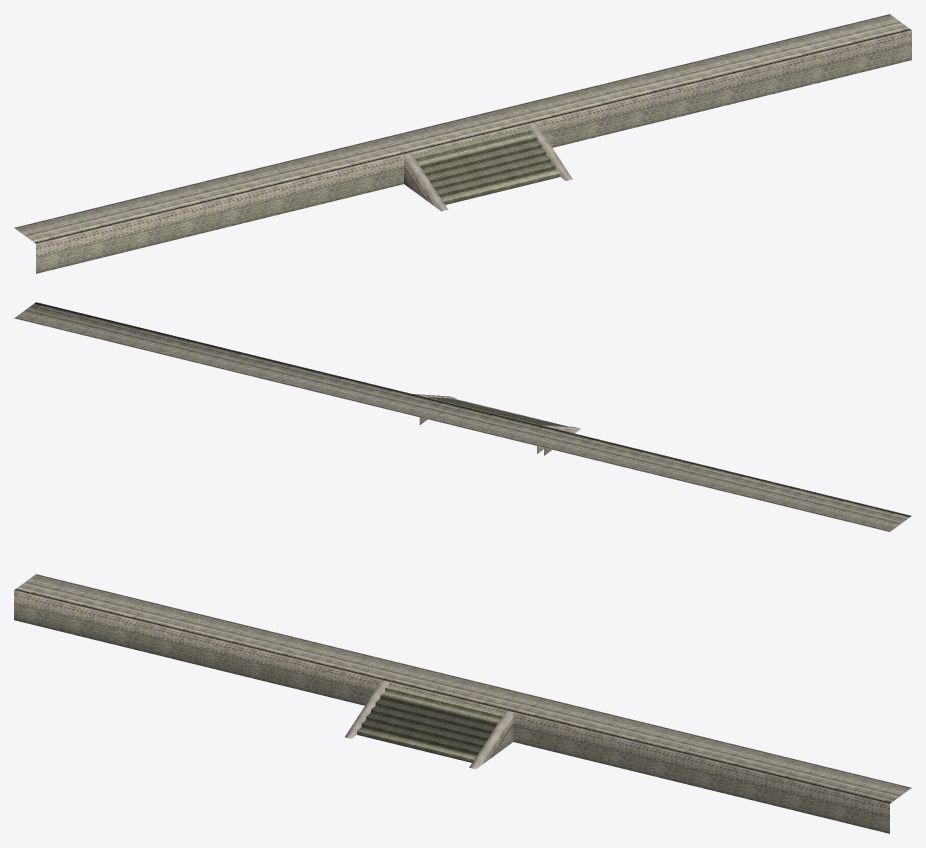
Rendered from cj_pal_center_stair.glb.
3 renders of one model, top to bottom at view 1: azimuth 30°, elevation 25°; view 2: azimuth 150°, elevation 25°; view 3: azimuth 330°, elevation 25°, orthographic.
Parts seen in each view (by area): view 1: CJ_pal_center_stair01, CJ_pal_center_stair01_1; view 2: CJ_pal_center_stair01, CJ_pal_center_stair01_1; view 3: CJ_pal_center_stair01, CJ_pal_center_stair01_1.
Part boxes in pixels (x1,y1,x2,y2): CJ_pal_center_stair01: [14, 14, 911, 273]; CJ_pal_center_stair01_1: [413, 127, 560, 204]; CJ_pal_center_stair01: [14, 302, 911, 531]; CJ_pal_center_stair01_1: [423, 396, 566, 426]; CJ_pal_center_stair01: [14, 574, 911, 833]; CJ_pal_center_stair01_1: [357, 685, 504, 762].
Size of the model in its own units: 62.6 by 2.04 by 7.38.
Materials: 2 (2 with a texture image).
